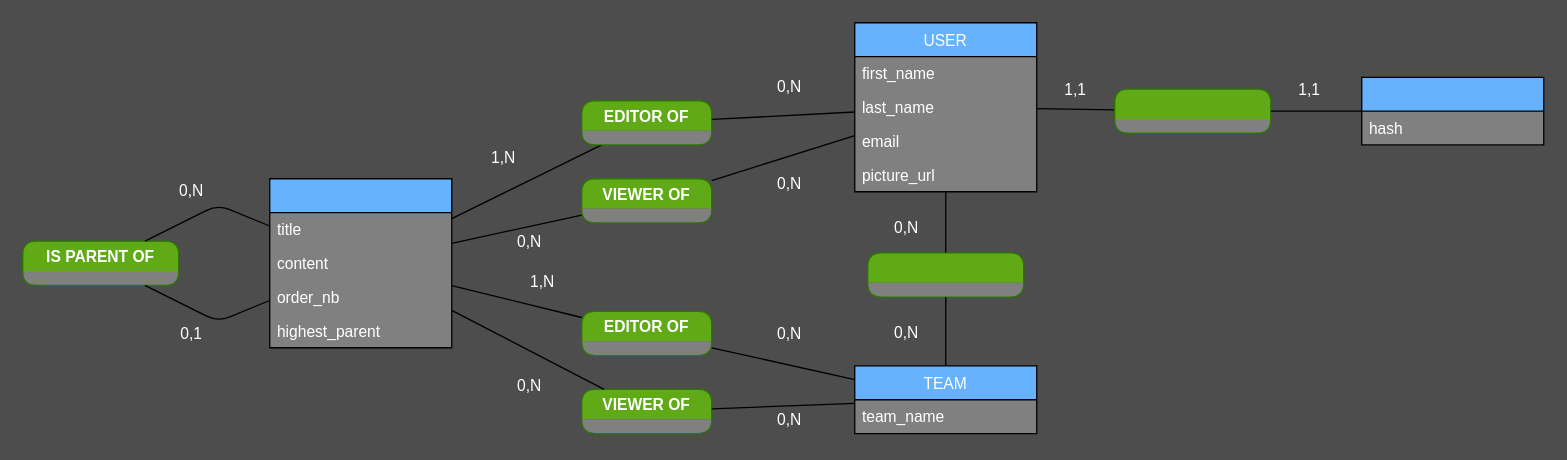
The diagram is 1567 pixels wide and 460 high, and some of its shapes have lost their labels. Each missing label, with the box of its shape:
BRISTOL: (268, 177, 452, 348)
PART OF: (866, 252, 1024, 297)
PASSWORD: (1360, 76, 1544, 145)
PROTECTED BY: (1113, 88, 1271, 133)
